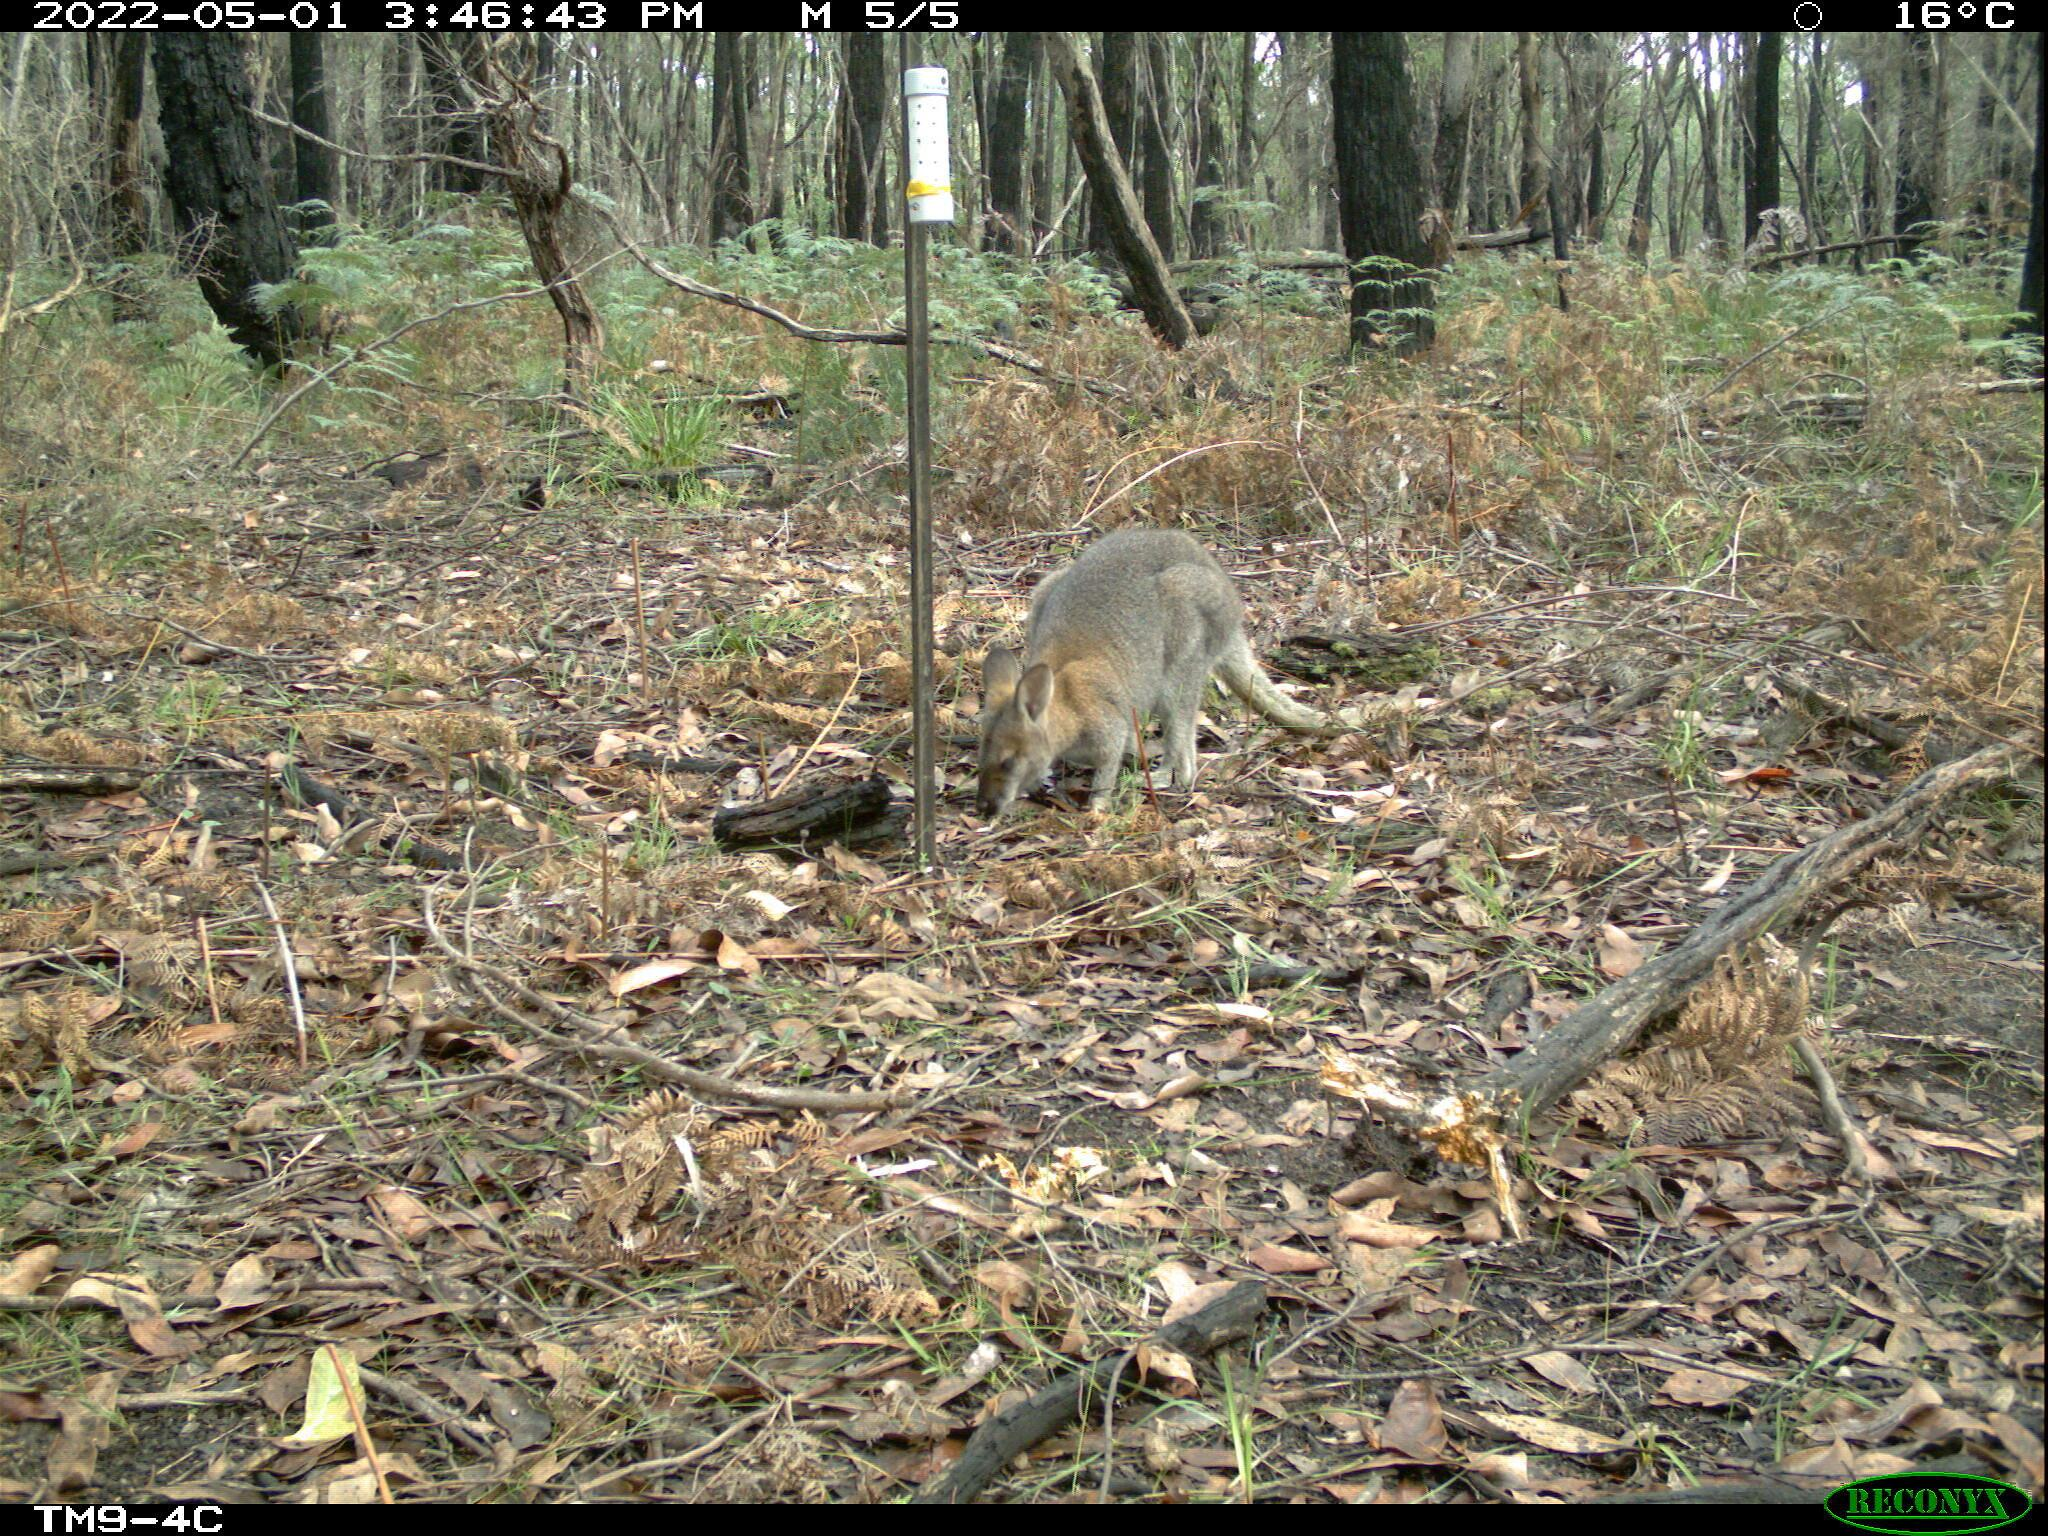Red-necked wallaby: (958, 526, 1467, 841)
